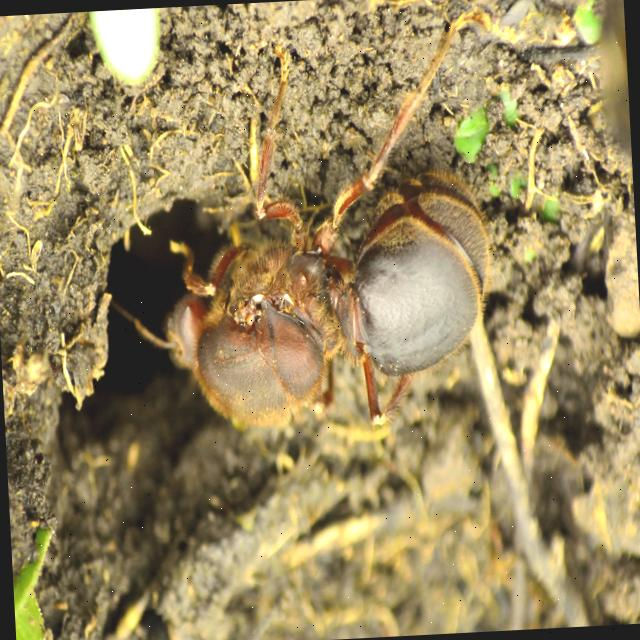Alive-Female-Dealate: (96, 3, 513, 446)
